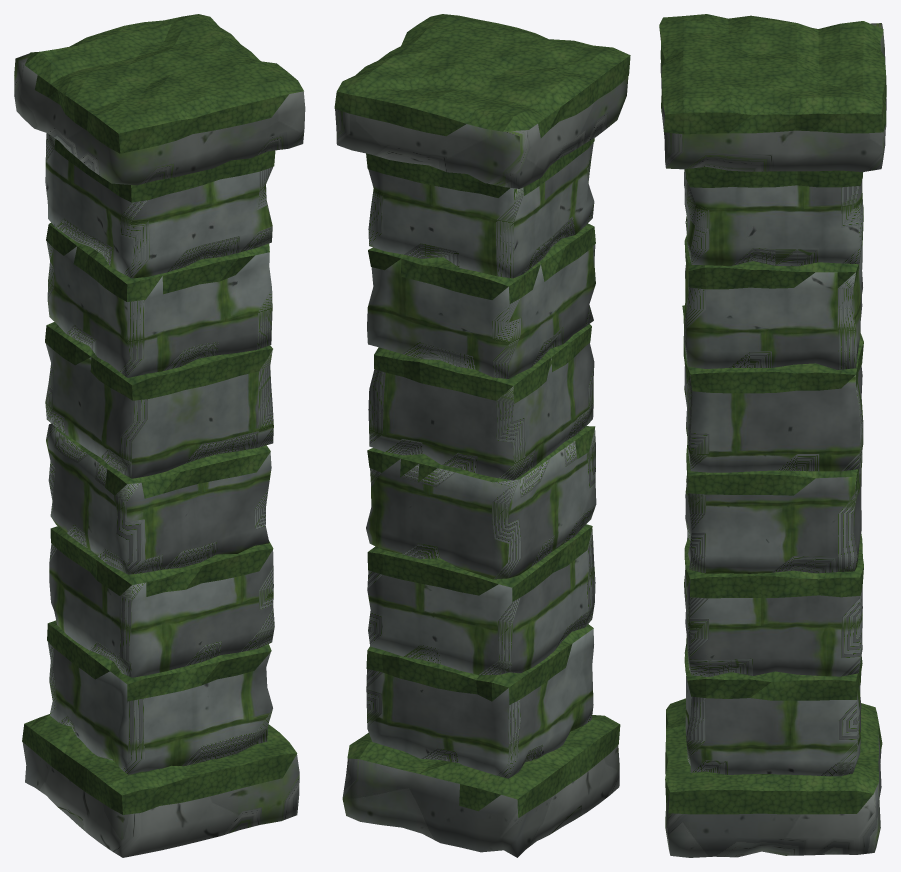
Rendered from mod_pillar_corner.glb.
The picture shows the model from 3 angles, left to right: view 1: azimuth 30°, elevation 25°; view 2: azimuth 150°, elevation 25°; view 3: azimuth 270°, elevation 25°; orthographic projection. The views are drawn at different scales.
Visible parts, largest first — view 1: mod_pillar_corner__stone_wall, mod_pillar_corner__moss, mod_pillar_corner__stone_block; view 2: mod_pillar_corner__stone_wall, mod_pillar_corner__moss, mod_pillar_corner__stone_block; view 3: mod_pillar_corner__stone_wall, mod_pillar_corner__moss, mod_pillar_corner__stone_block.
Part boxes in pixels (box(x1,y1,x2,y2)): mod_pillar_corner__stone_wall: box(45, 133, 274, 774); mod_pillar_corner__moss: box(22, 14, 303, 814); mod_pillar_corner__stone_block: box(14, 53, 305, 857); mod_pillar_corner__stone_wall: box(366, 142, 596, 778); mod_pillar_corner__moss: box(334, 14, 630, 817); mod_pillar_corner__stone_block: box(335, 76, 628, 857); mod_pillar_corner__stone_wall: box(684, 169, 863, 776); mod_pillar_corner__moss: box(659, 14, 886, 814); mod_pillar_corner__stone_block: box(660, 23, 886, 857).
Bounding box in the file's own units: 1.17 × 4.29 × 1.17.
3 materials, 3 textured.
